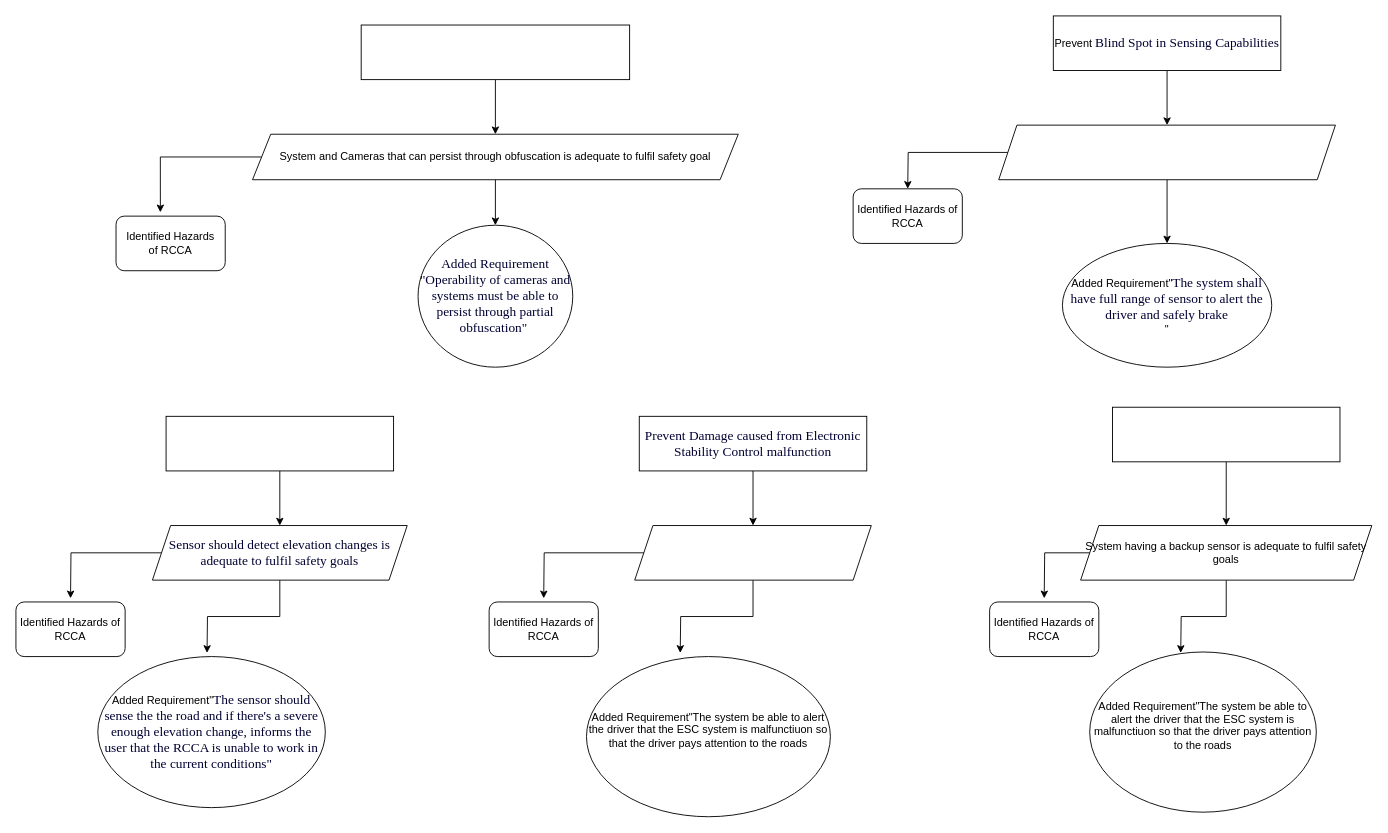
Image size: 1388x833. Some labels were removed from this diagram. The shapes that lost their labels are listed below. From the top down, each one's centre as x and y in pixels, then its label:
At point 495,52: "Prevent Camera disability due to inclement weather conditions".
At point 1166,152: "Adding full range sensors is adequate to fulfill safety goals".
At point 279,443: "Prevent Damage caused from Elevation Differences".
At point 1226,434: "Prevent Damage caused Sensor Failure".
At point 752,552: "System alerts driver if ESC malfunctions is adequate to fulfil safety goals".
